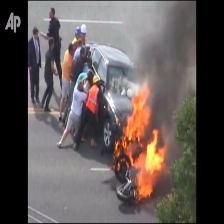fire_h: (121, 72, 166, 198)
fire_l: (117, 158, 129, 173), (114, 139, 120, 157)
